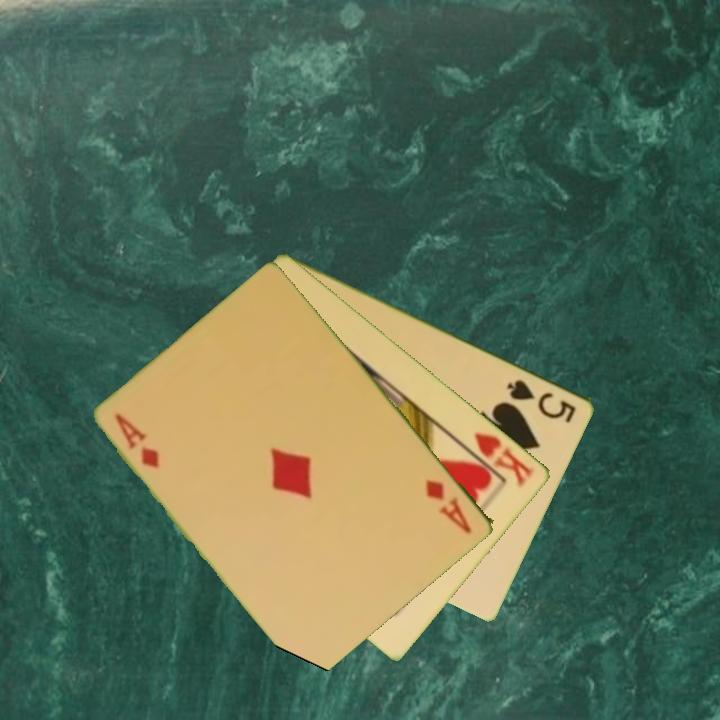5s: (503, 375, 579, 427)
Ad: (422, 476, 475, 537), (112, 410, 163, 471)
Kh: (458, 429, 538, 490)
